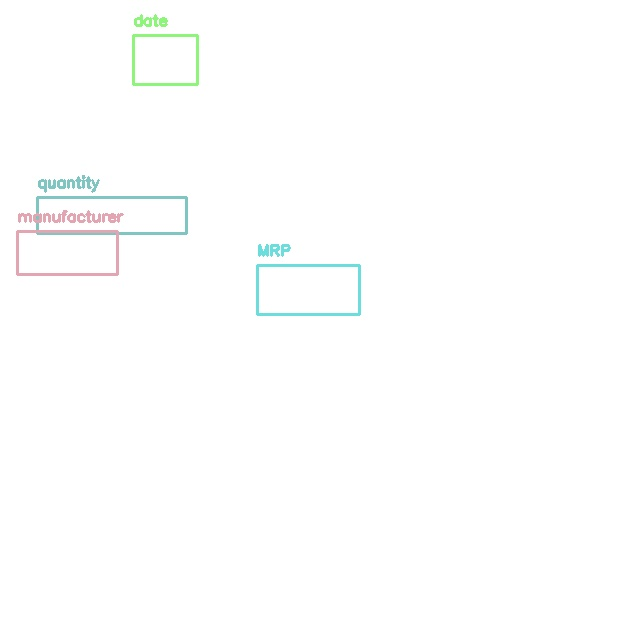MRP: (257, 265, 359, 314)
date: (133, 35, 197, 84)
manufacturer: (17, 231, 117, 274)
quantity: (37, 197, 186, 233)
